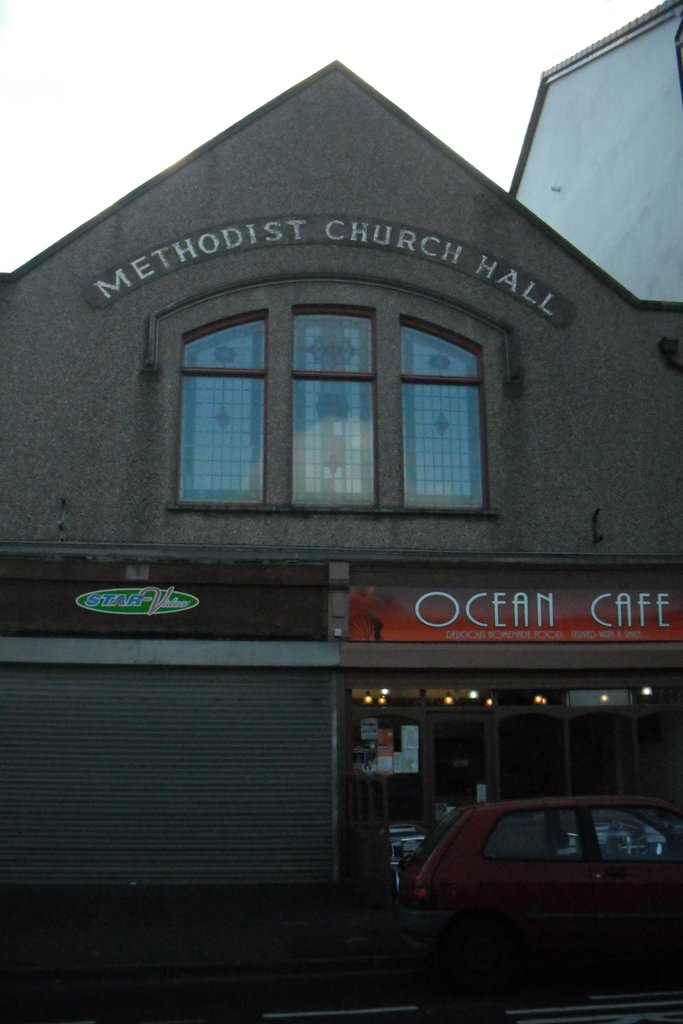Window: (189, 273, 494, 527)
